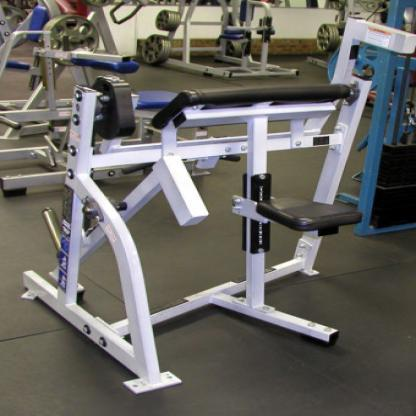arm curl machine: (22, 74, 376, 390)
